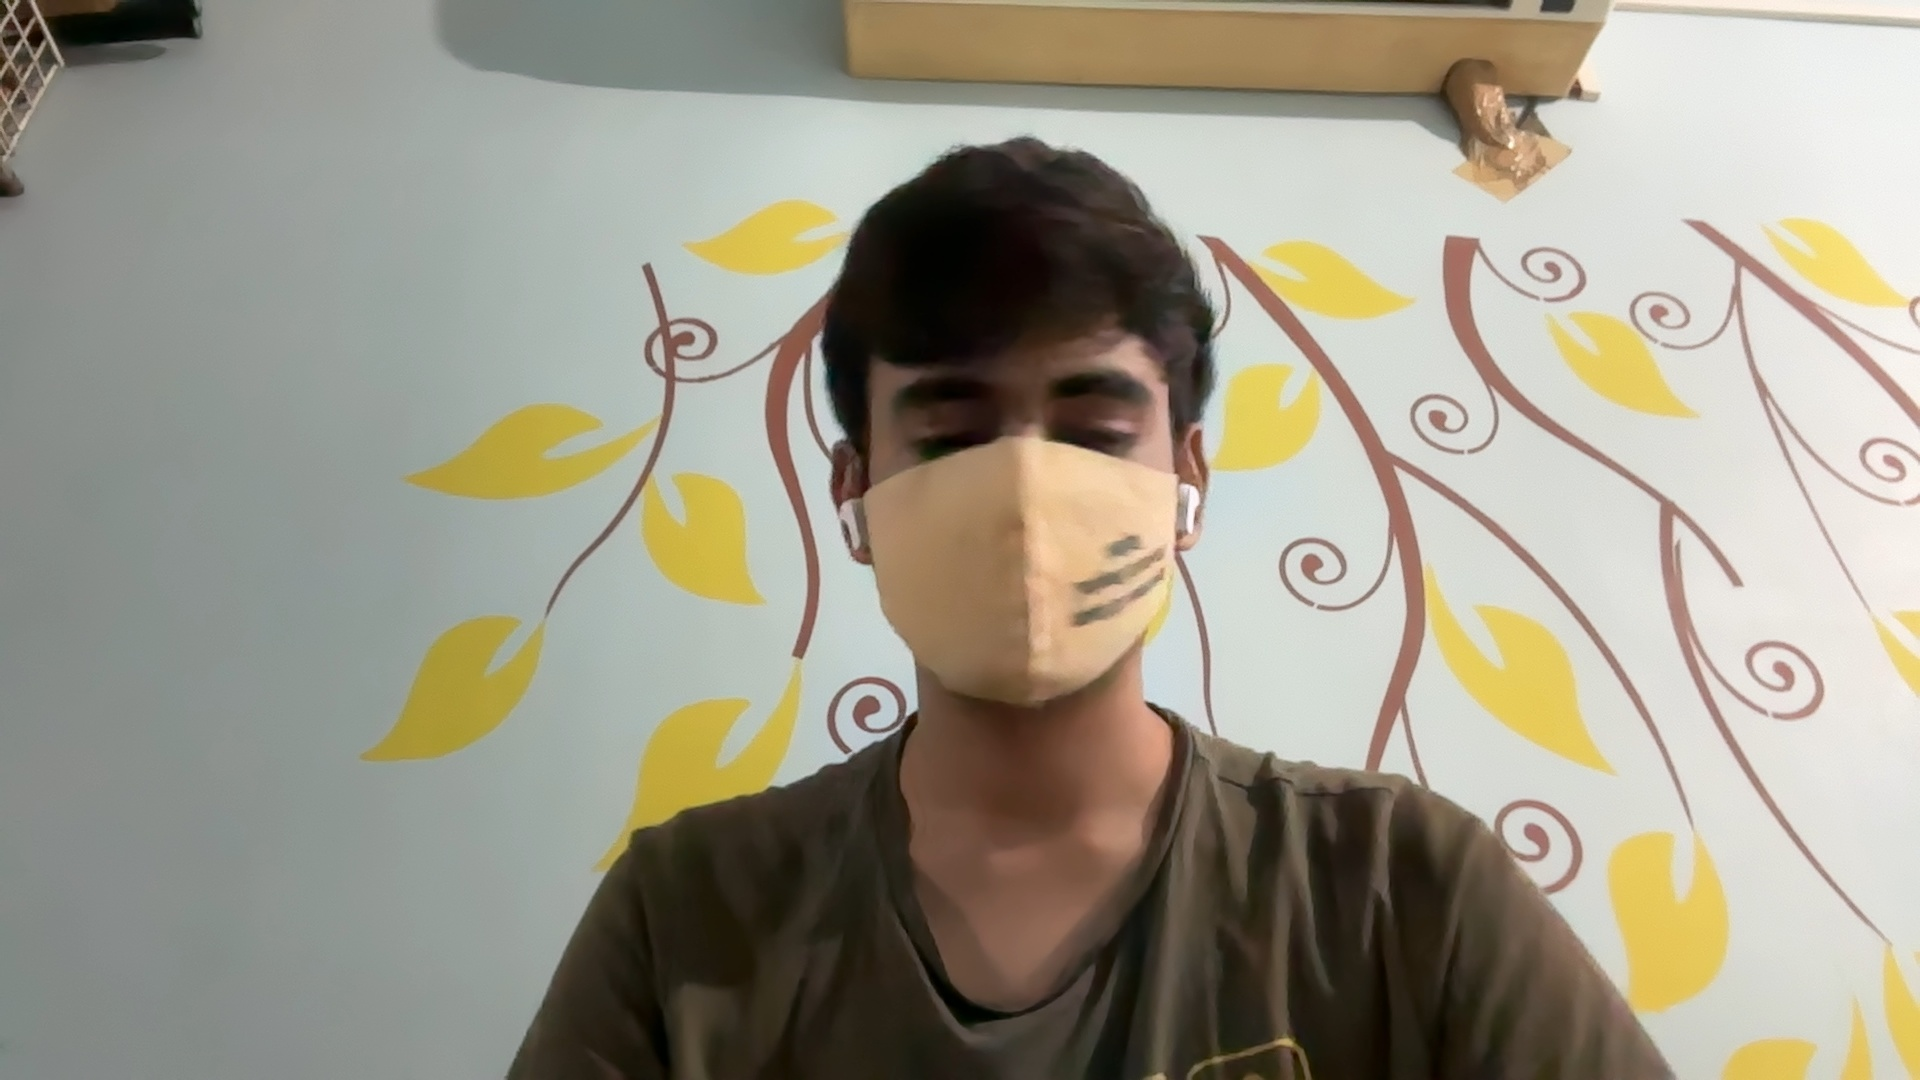Mask: (854, 448, 1190, 727)
